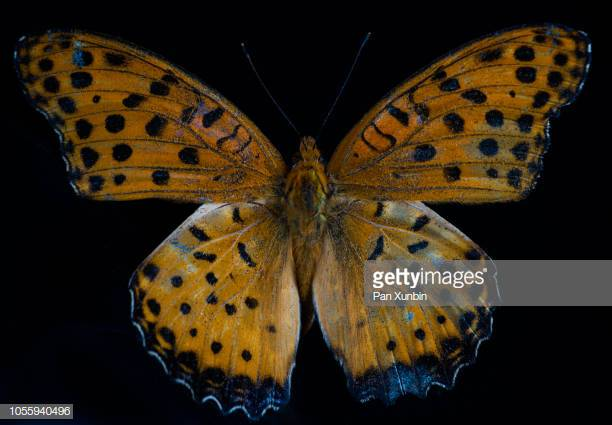Argyreus hyperbius: (10, 13, 592, 417)
butterfly: (12, 15, 594, 419)
